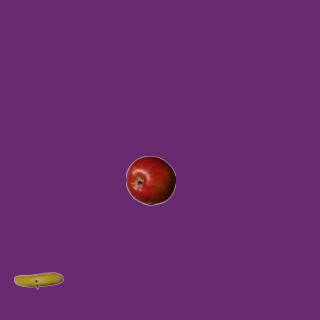Apple Braeburn: (125, 155, 175, 205)
Banana: (13, 255, 63, 305)
